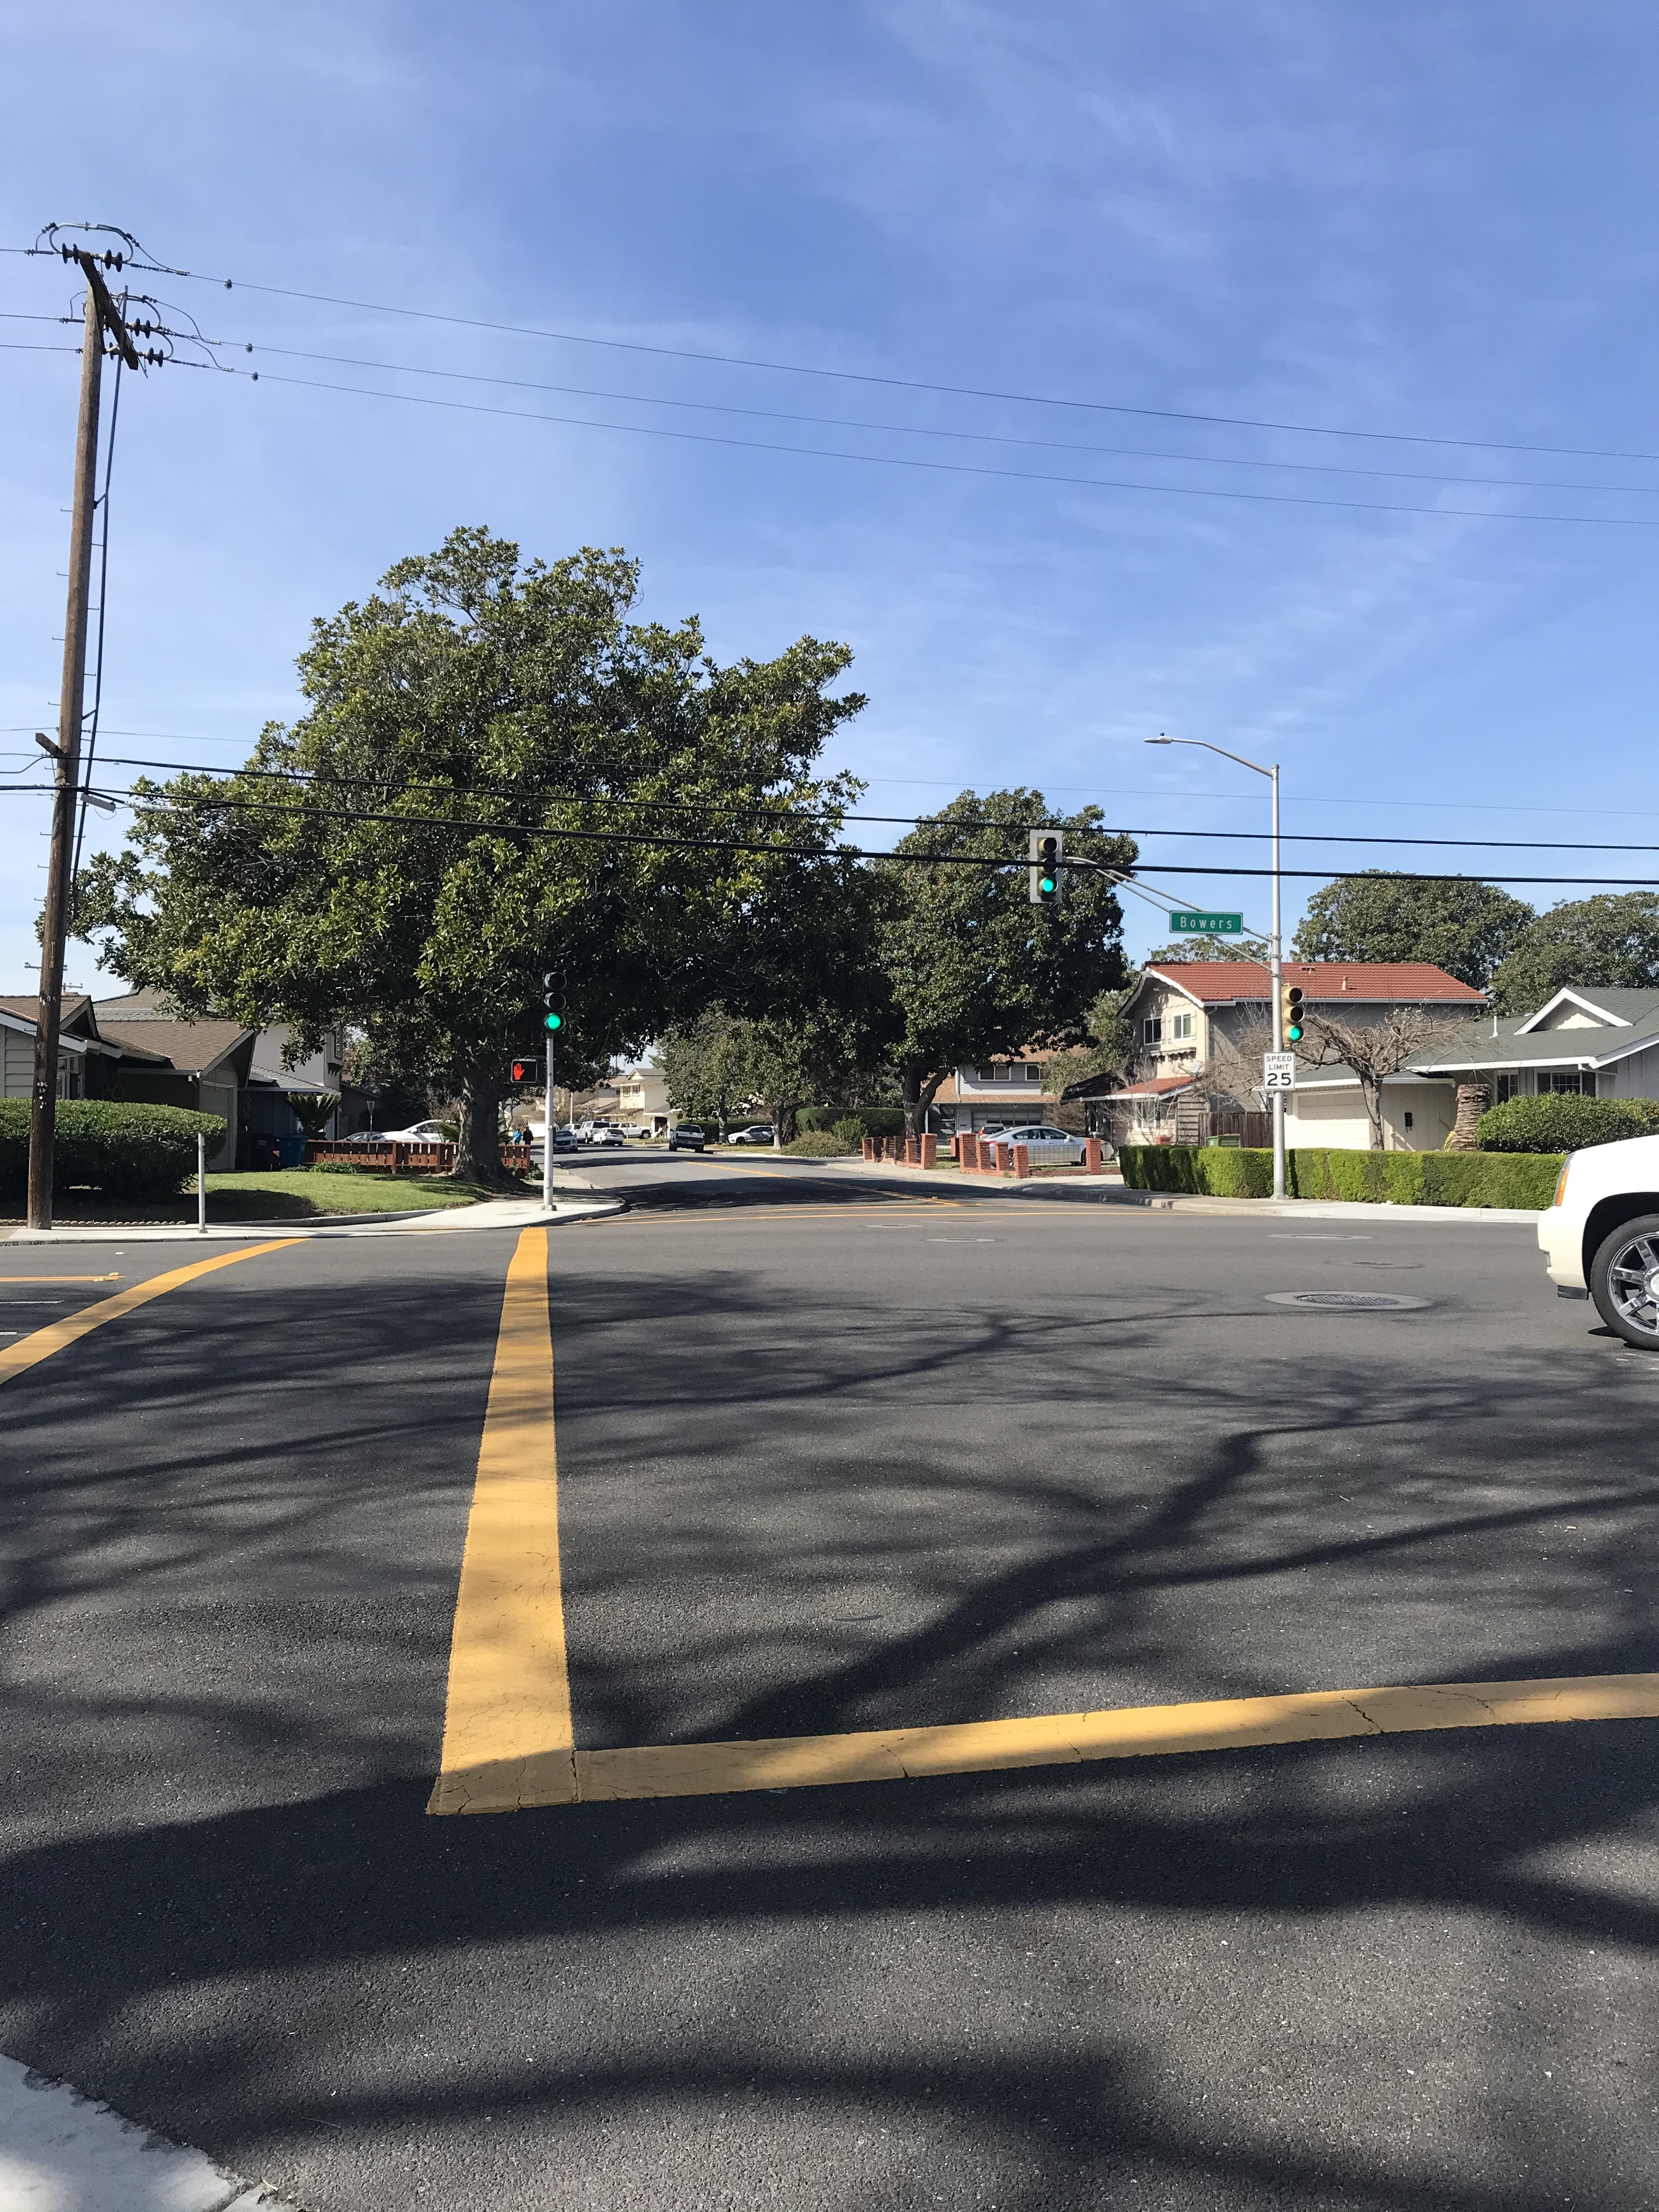green_light: (1032, 826, 1066, 906), (535, 970, 565, 1038), (1288, 982, 1309, 1045)
